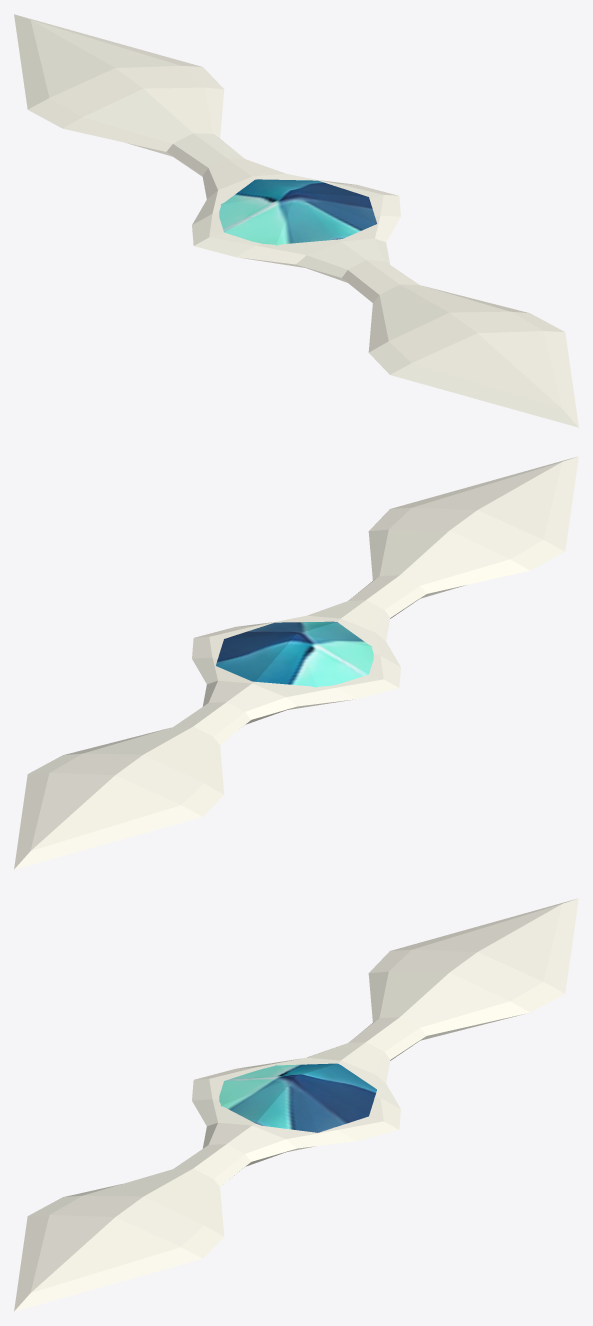
Rendered from MysticBoomerang.fbx.
3 views of the same model, one above another, from view 1: azimuth 30°, elevation 25°; view 2: azimuth 150°, elevation 25°; view 3: azimuth 330°, elevation 25° (orthographic).
Parts seen in each view (by area): view 1: Boomerang, Gem; view 2: Boomerang, Gem; view 3: Boomerang, Gem.
Part boxes in pixels (left/top/right/bottom): Boomerang: left=14, top=14, right=578, bottom=427; Gem: left=219, top=179, right=376, bottom=245; Boomerang: left=14, top=456, right=578, bottom=869; Gem: left=216, top=621, right=373, bottom=687; Boomerang: left=14, top=898, right=578, bottom=1311; Gem: left=219, top=1063, right=376, bottom=1132.
Size of the model in its own units: 116 by 31.09 by 553.
